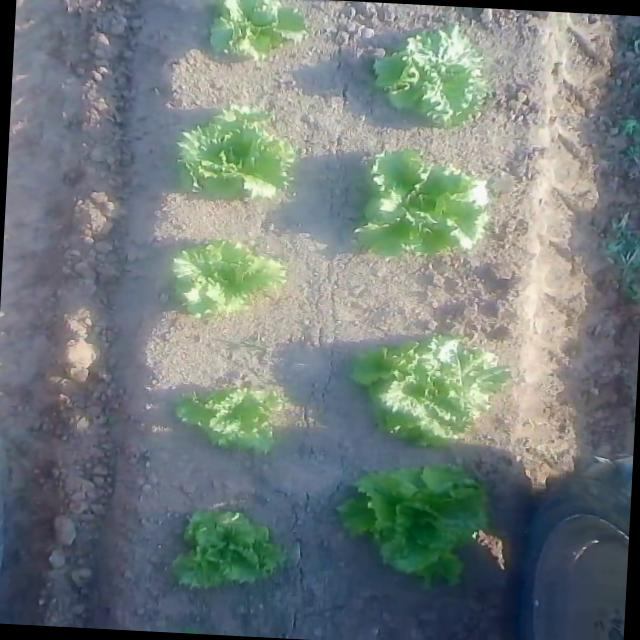Lettuce-Ready-to-Harvest: (334, 458, 491, 592), (347, 331, 516, 451), (350, 146, 494, 266), (368, 18, 492, 133), (172, 100, 302, 206), (171, 504, 287, 595), (168, 237, 288, 321), (173, 380, 289, 454)
